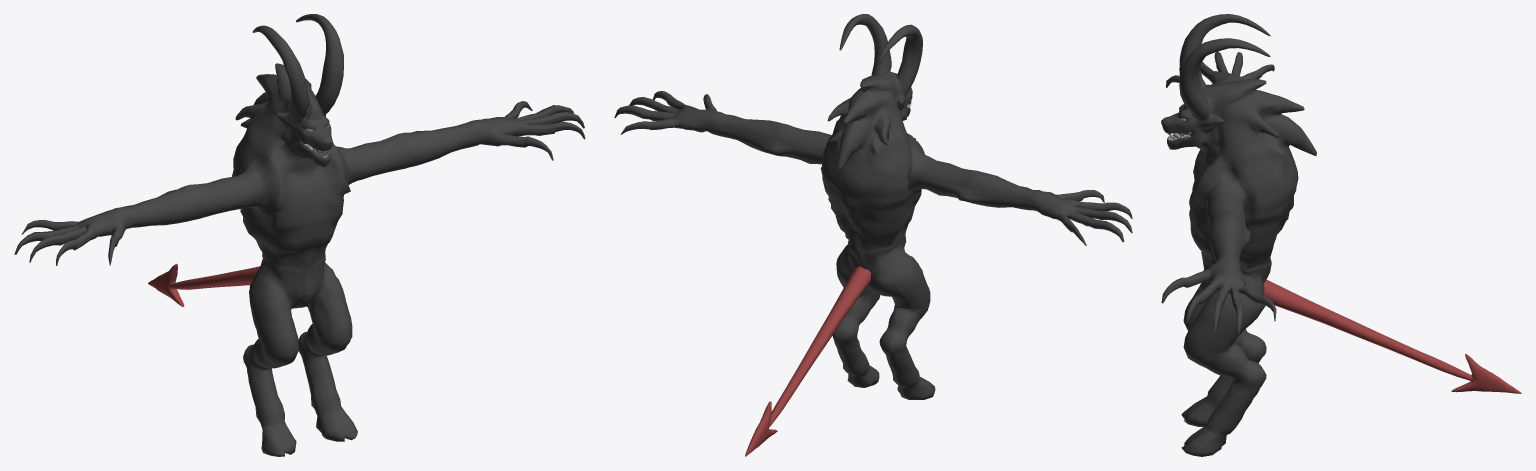
File: lowpoly_demon.fbx
3 renders of one model, left to right at view 1: azimuth 30°, elevation 25°; view 2: azimuth 150°, elevation 25°; view 3: azimuth 270°, elevation 25°, orthographic. The views are drawn at different scales.
Parts seen in each view (by area): view 1: pBody, pTail; view 2: pBody, pTail; view 3: pBody, pTail.
Boxes of the visible parts, bbox=[...] form: pBody: bbox=[14, 14, 585, 456]; pTail: bbox=[148, 263, 259, 306]; pBody: bbox=[614, 14, 1132, 399]; pTail: bbox=[745, 266, 870, 456]; pBody: bbox=[1161, 14, 1316, 456]; pTail: bbox=[1263, 279, 1521, 393].
Bounding box in the file's own units: 39.15 × 27.32 × 21.9.
